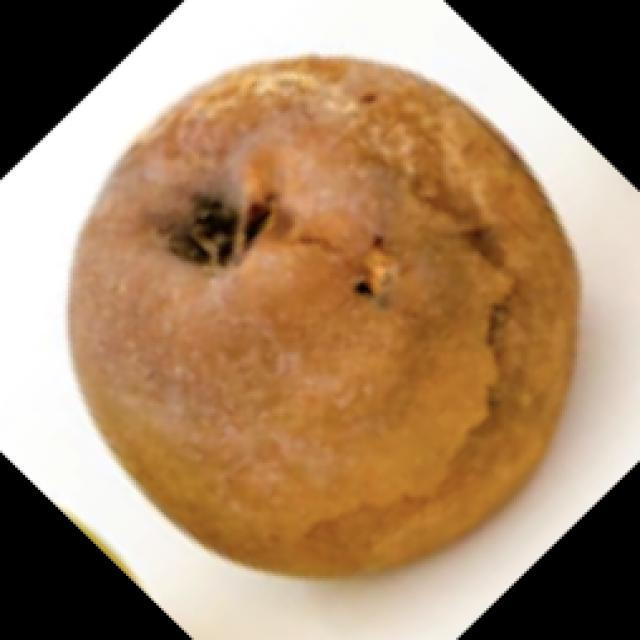Rotten: (108, 55, 580, 562)
